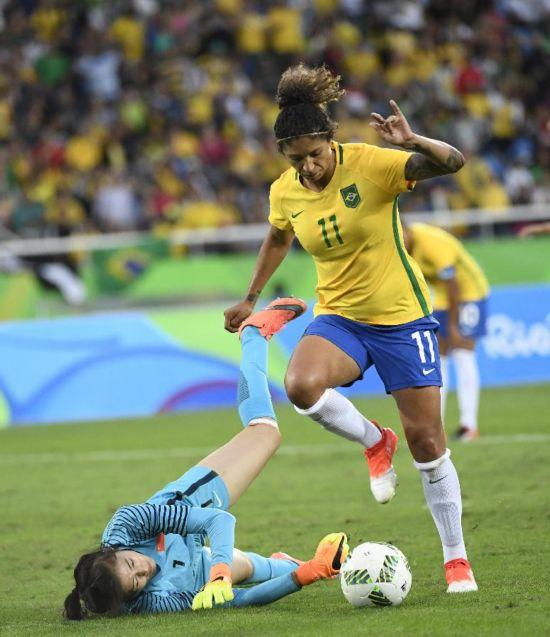bending: (390, 201, 503, 444)
down: (72, 318, 363, 618)
up: (244, 71, 457, 596)
